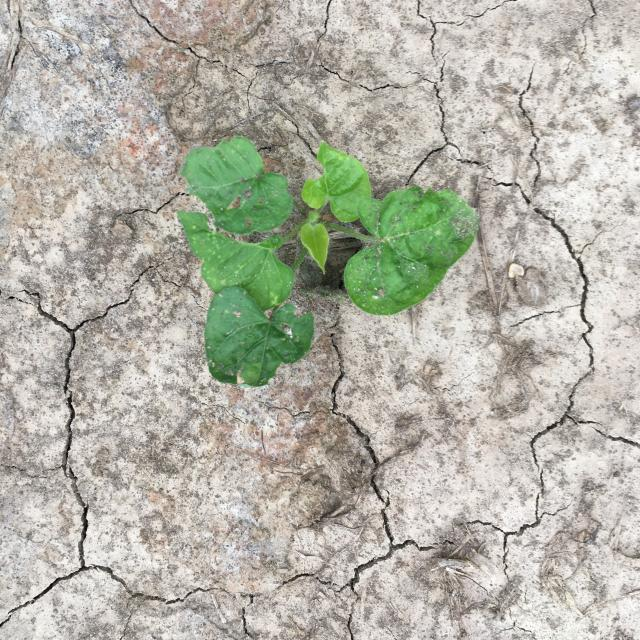MorningGlory: (176, 136, 479, 388)
